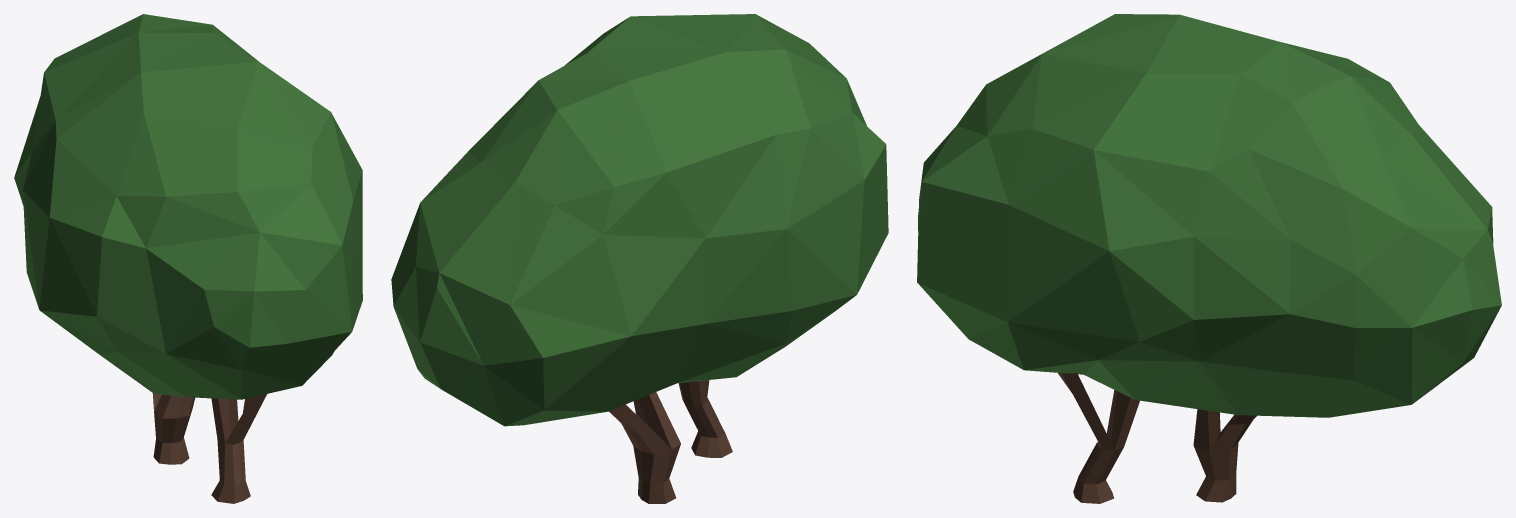
The model's file is BerryBush2.fbx.
3 views of the same model, side by side, from view 1: azimuth 30°, elevation 25°; view 2: azimuth 150°, elevation 25°; view 3: azimuth 270°, elevation 25° (orthographic). The views are drawn at different scales.
Parts seen in each view (by area): view 1: Berry2.001; view 2: Berry2.001; view 3: Berry2.001.
Boxes of the visible parts, x1,y1,x2,y2 form: Berry2.001: (14,14,362,503); Berry2.001: (391,14,888,503); Berry2.001: (917,14,1501,503).
Size of the model in its own units: 104 by 129 by 150.
